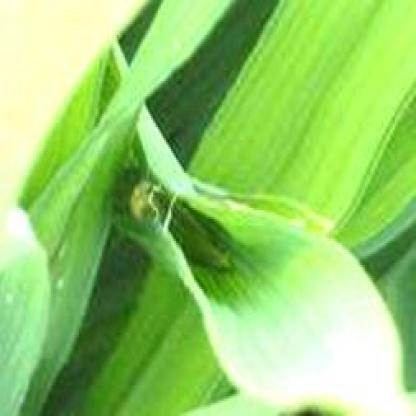leaf-folder: (124, 149, 240, 291)
